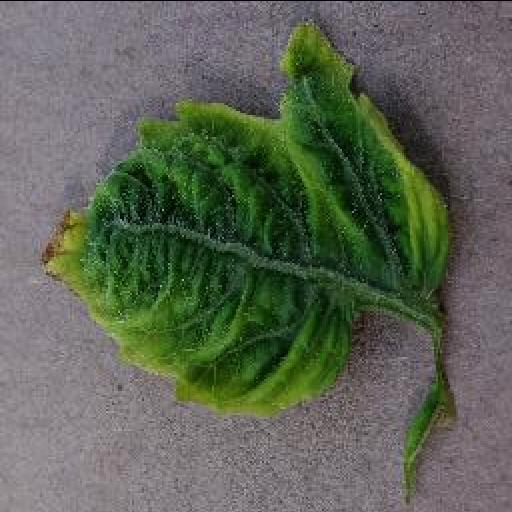disease_tomato: (34, 10, 454, 412)
